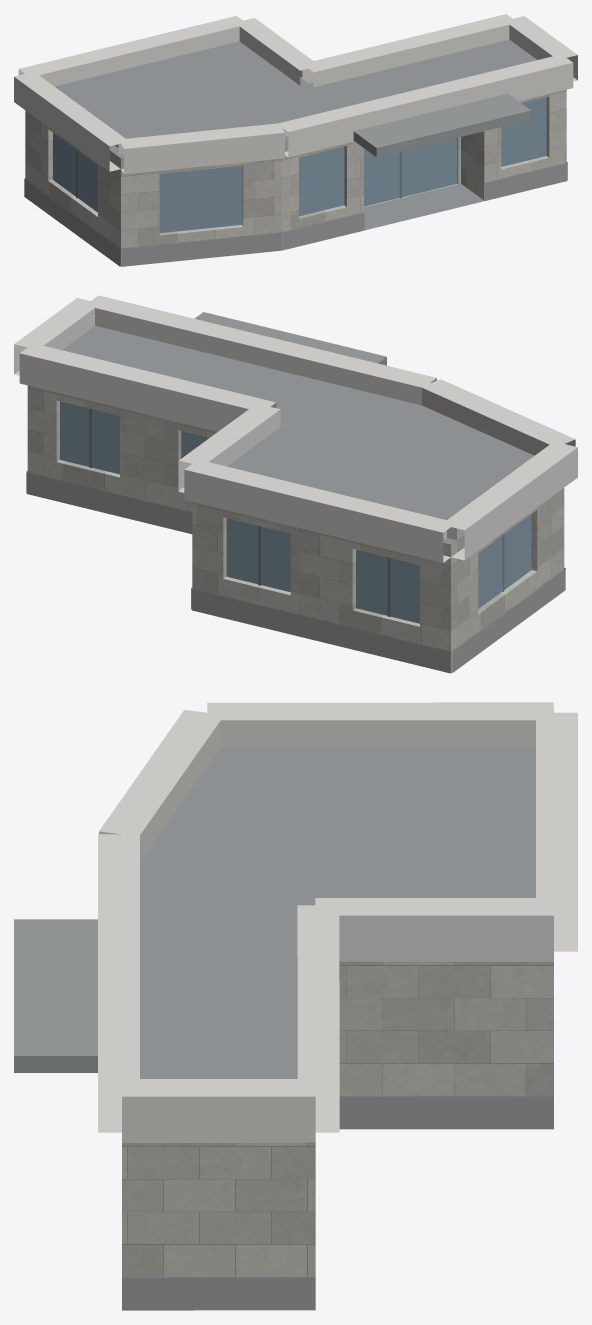
The picture shows the model from 3 angles, top to bottom: view 1: azimuth 30°, elevation 25°; view 2: azimuth 150°, elevation 25°; view 3: azimuth 270°, elevation 25°; orthographic projection. The views are drawn at different scales.
Visible parts, largest first — view 1: gateOffice__trim, gateOffice__roof, gateOffice__wall, gateOffice__glass, gateOffice__base, gateOffice__canopy; view 2: gateOffice__trim, gateOffice__wall, gateOffice__roof, gateOffice__glass, gateOffice__base, gateOffice__canopy, gateOffice__frame; view 3: gateOffice__roof, gateOffice__trim, gateOffice__wall, gateOffice__base, gateOffice__canopy.
Boxes of the visible parts, x1=… form: gateOffice__trim: x1=14, y1=14, x2=577, y2=174; gateOffice__roof: x1=54, y1=39, x2=536, y2=266; gateOffice__wall: x1=25, y1=90, x2=566, y2=265; gateOffice__glass: x1=53, y1=97, x2=546, y2=232; gateOffice__base: x1=24, y1=162, x2=567, y2=266; gateOffice__canopy: x1=353, y1=93, x2=530, y2=157; gateOffice__trim: x1=14, y1=295, x2=577, y2=562; gateOffice__wall: x1=27, y1=385, x2=564, y2=672; gateOffice__roof: x1=62, y1=325, x2=534, y2=673; gateOffice__glass: x1=60, y1=401, x2=531, y2=623; gateOffice__base: x1=26, y1=471, x2=565, y2=673; gateOffice__canopy: x1=194, y1=312, x2=386, y2=365; gateOffice__frame: x1=89, y1=408, x2=504, y2=616; gateOffice__roof: x1=122, y1=747, x2=535, y2=1310; gateOffice__trim: x1=98, y1=702, x2=577, y2=1142; gateOffice__wall: x1=122, y1=961, x2=553, y2=1277; gateOffice__base: x1=122, y1=1096, x2=553, y2=1310; gateOffice__canopy: x1=14, y1=919, x2=97, y2=1072.
Size of the model in its own units: 15.56 by 4.12 by 9.4.
8 materials, 1 textured.
